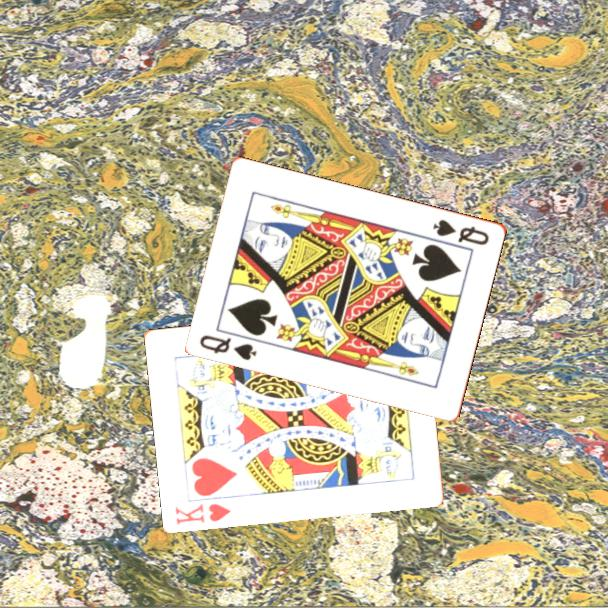h13: (172, 500, 234, 527)
s12: (196, 331, 260, 363), (430, 216, 492, 248)
